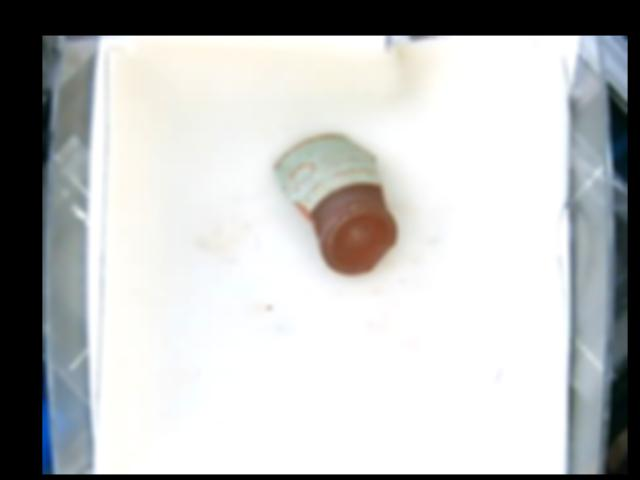China: (275, 134, 397, 270)
